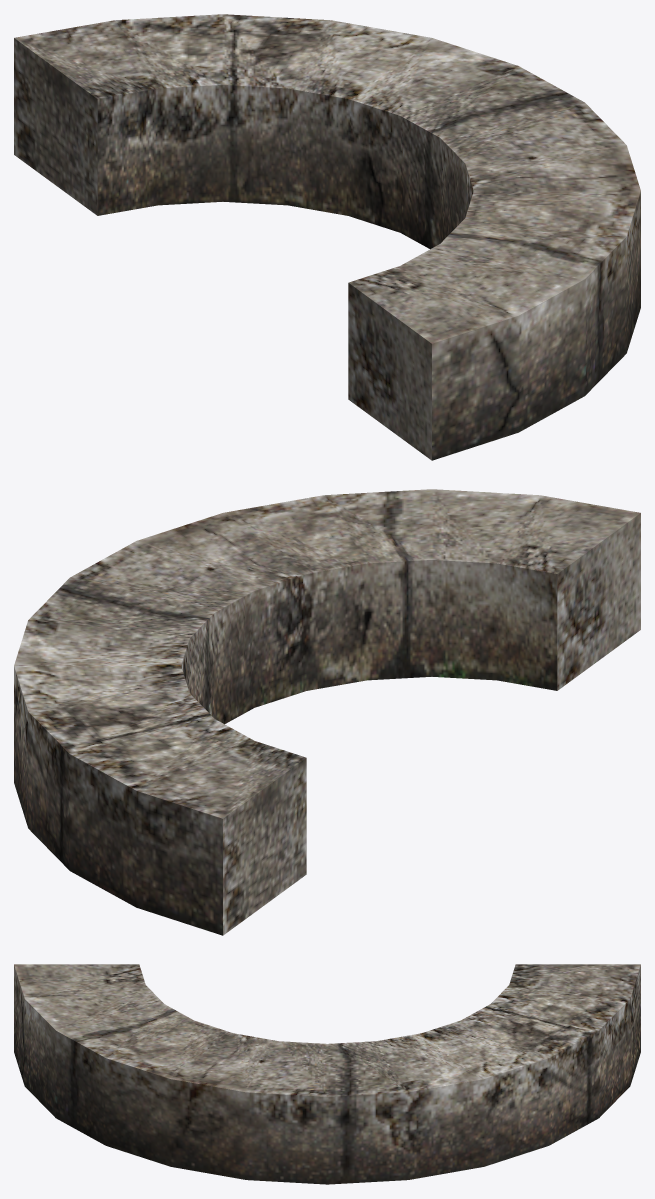
Rendered from Road_Edge1_end.fbx.
3 views of the same model, one above another, from view 1: azimuth 30°, elevation 25°; view 2: azimuth 150°, elevation 25°; view 3: azimuth 270°, elevation 25° (orthographic). The views are drawn at different scales.
Visible parts, largest first — view 1: pCylinder1; view 2: pCylinder1; view 3: pCylinder1.
Boxes of the visible parts, <box> form: pCylinder1: <box>14,14,640,460</box>; pCylinder1: <box>14,489,640,935</box>; pCylinder1: <box>14,964,640,1184</box>.
Size of the model in its own units: 0.5 by 0.1543 by 1.
